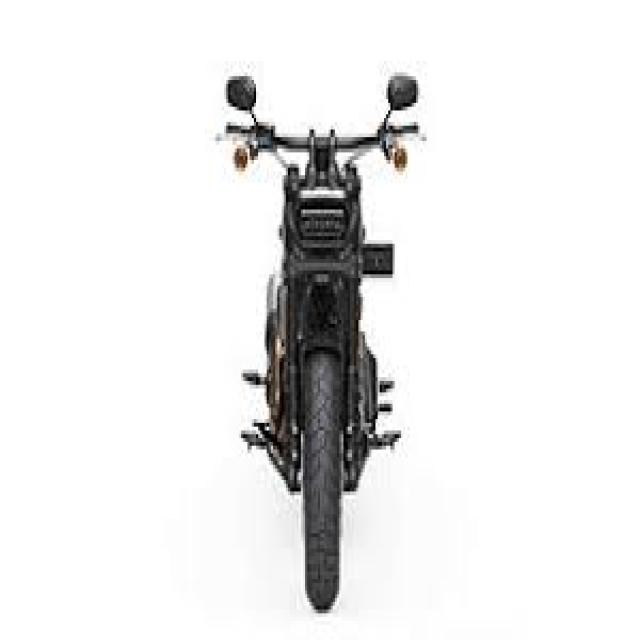MOTORCYCLE: (258, 158, 377, 625)
